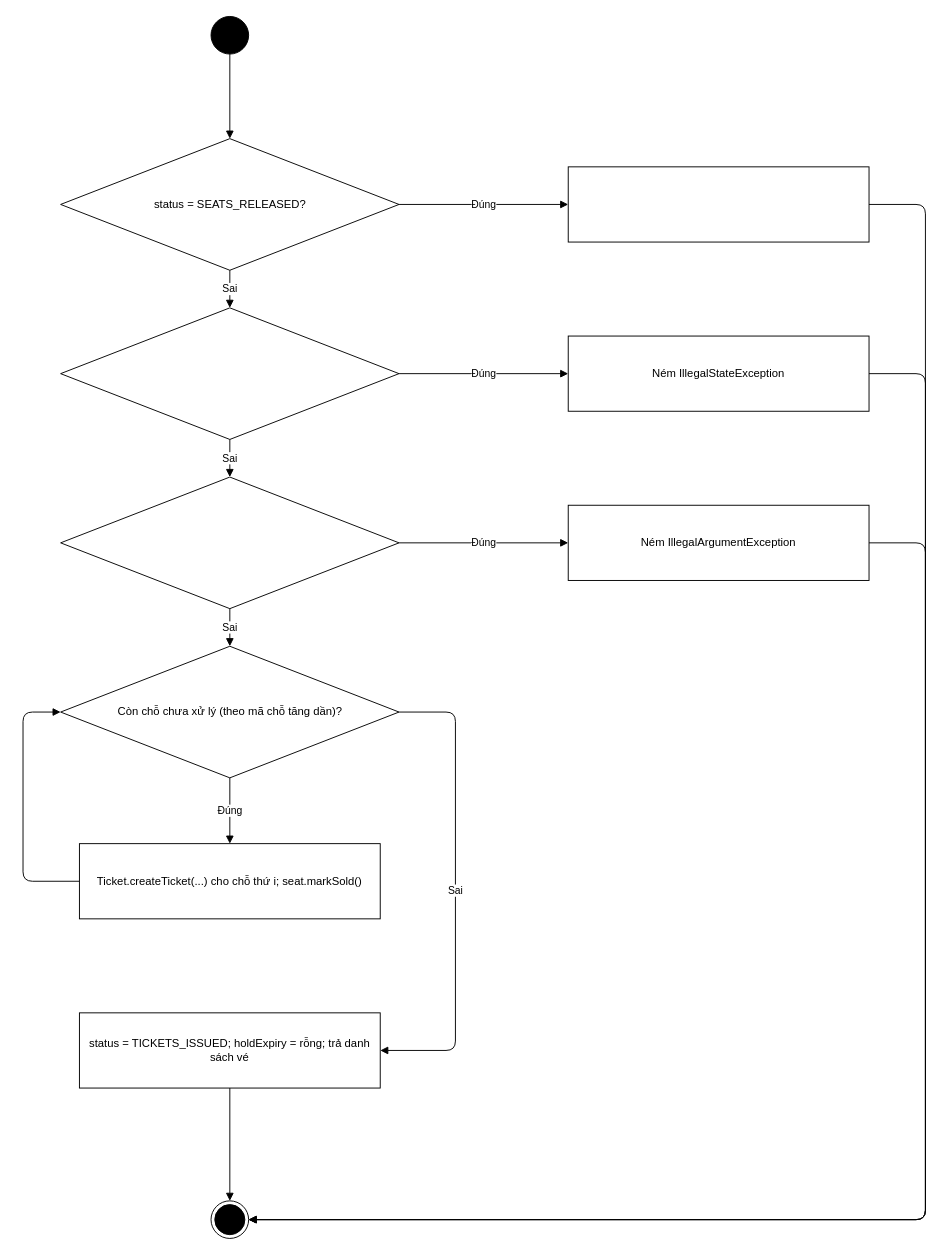
The diagram is 949 pixels wide and 1255 high, and some of its shapes have lost their labels. Here are the shapes that lost their labels. From the top down, the centre of each, then its label:
point 718,204: Ném HoldExpiredException
point 229,373: status khác HOLDING?
point 229,542: ticketCodes.size() khác số chỗ?
